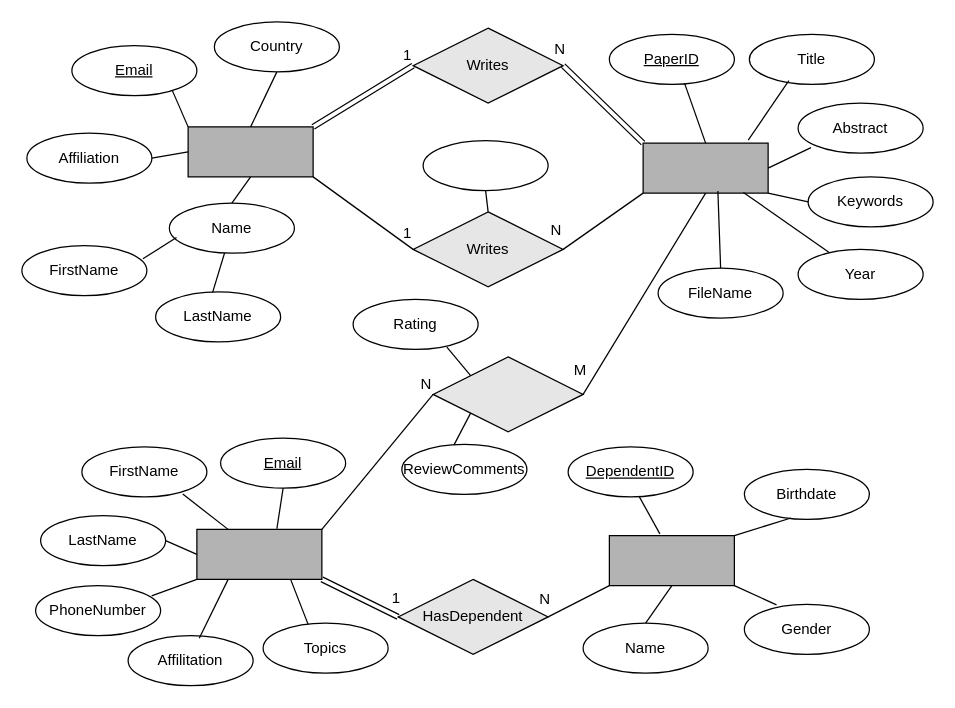
Some shapes in this 955 by 708 pixel diagram are drawn without their labels. The centre of each missing label's shape, as x and y in pixels:
"Author" goes at (250,151).
"Corresponding Author" goes at (485,165).
"Dependent" goes at (671,560).
"Paper" goes at (705,167).
"Reviewer" goes at (259,553).
"Reviews" goes at (507,394).
